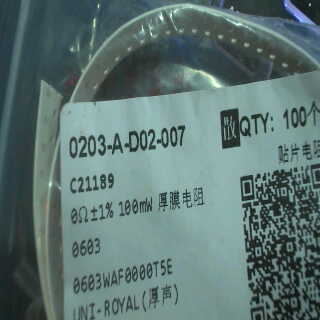0R: (67, 195, 158, 258)
